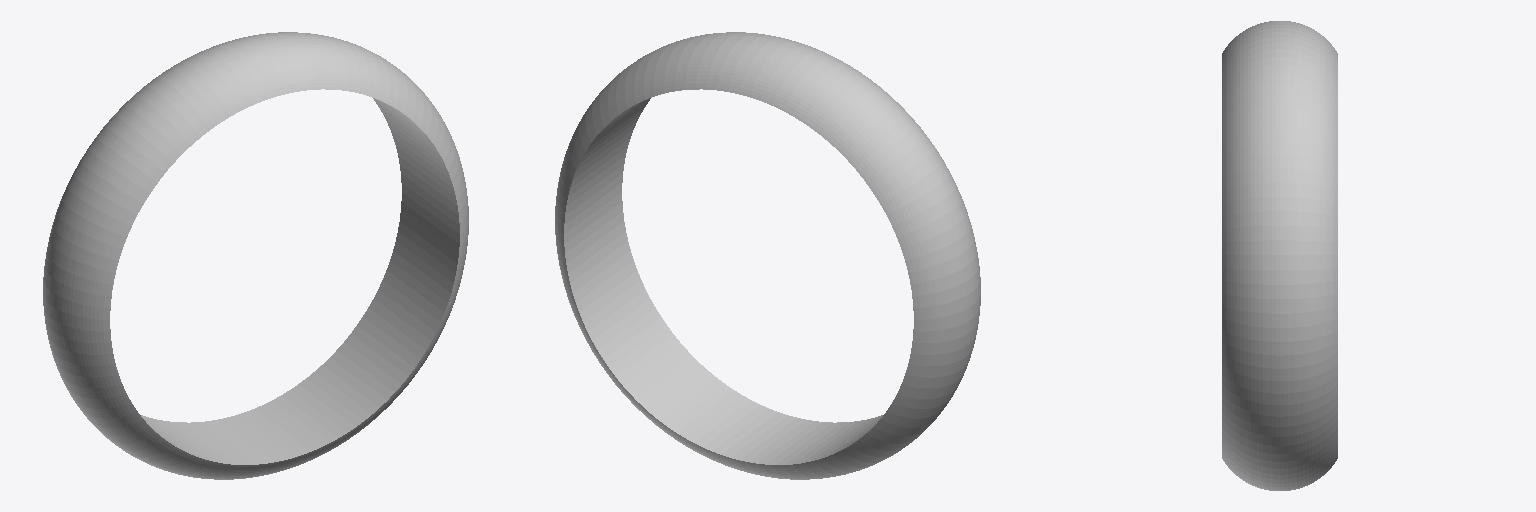
Rendered from airship-prop-ring.obj.
3 renders of one model, left to right at view 1: azimuth 30°, elevation 25°; view 2: azimuth 150°, elevation 25°; view 3: azimuth 270°, elevation 25°, orthographic.
Parts seen in each view (by area): view 1: Object.1; view 2: Object.1; view 3: Object.1.
Part boxes in pixels (x1,y1,x2,y2): Object.1: (43,32,468,479); Object.1: (555,32,980,479); Object.1: (1222,21,1337,490).
Size of the model in its own units: 5 by 5 by 1.24.